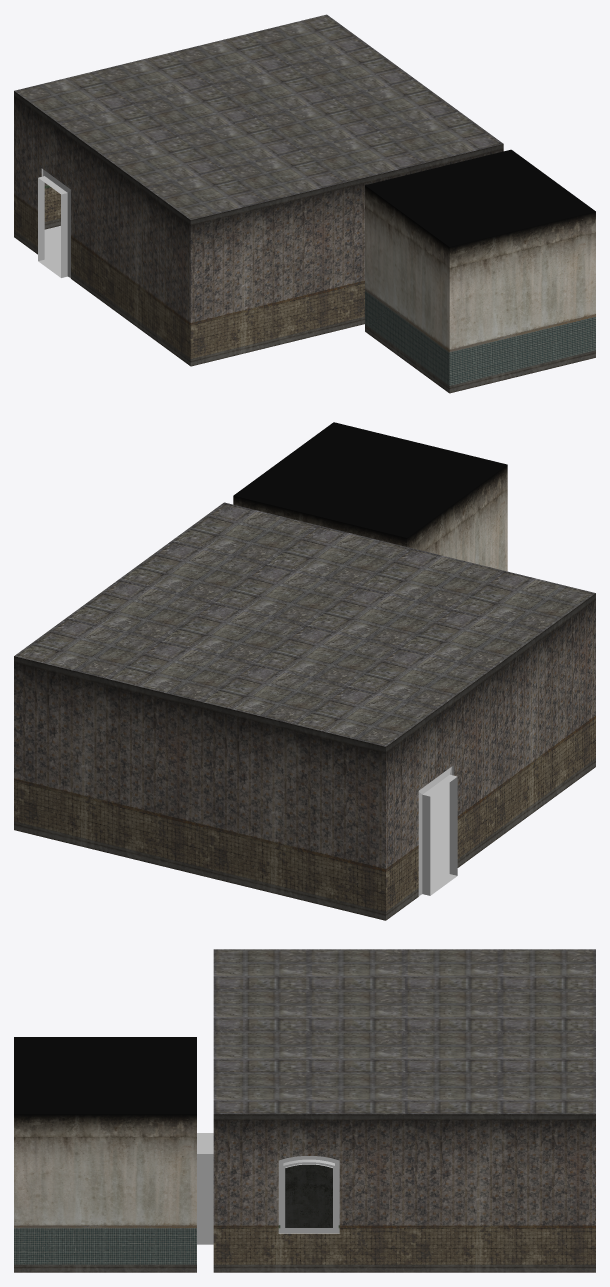
File: SharedRoom_2x3.FBX
3 views of the same model, one above another, from view 1: azimuth 30°, elevation 25°; view 2: azimuth 150°, elevation 25°; view 3: azimuth 270°, elevation 25° (orthographic). The views are drawn at different scales.
Visible parts, largest first — view 1: SharedRoom_2x3; view 2: SharedRoom_2x3; view 3: SharedRoom_2x3.
Part boxes in pixels (x1=…): SharedRoom_2x3: x1=14, y1=14, x2=595, y2=393; SharedRoom_2x3: x1=14, y1=422, x2=595, y2=920; SharedRoom_2x3: x1=14, y1=949, x2=595, y2=1272.
Size of what is drawn, in the model's own units: 957 by 413 by 1378.
